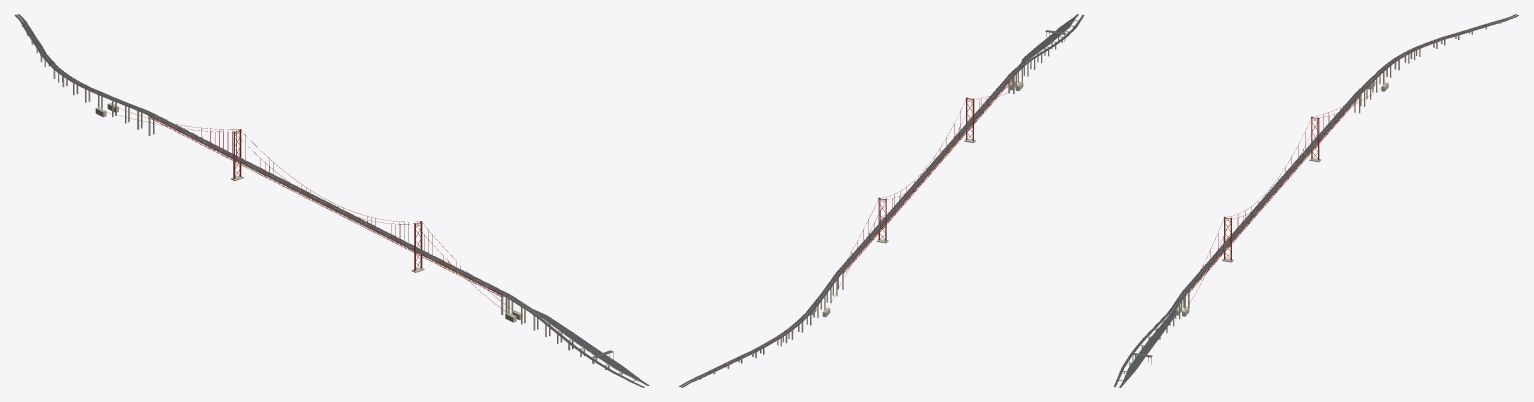
The model's file is ponte-25-de-abril-near.glb.
The picture shows the model from 3 angles, left to right: view 1: azimuth 30°, elevation 25°; view 2: azimuth 150°, elevation 25°; view 3: azimuth 330°, elevation 25°; orthographic projection. The views are drawn at different scales.
Parts seen in each view (by area): view 1: ponte-25-de-abril-1-steel, ponte-25-de-abril-0-asphalt, ponte-25-de-abril-2-steel, ponte-25-de-abril-0-concrete, ponte-25-de-abril-1-asphalt, ponte-25-de-abril-2-asphalt, ponte-25-de-abril-3-asphalt, ponte-25-de-abril-3-concrete; view 2: ponte-25-de-abril-1-steel, ponte-25-de-abril-2-steel, ponte-25-de-abril-0-asphalt, ponte-25-de-abril-3-asphalt, ponte-25-de-abril-2-asphalt, ponte-25-de-abril-1-asphalt, ponte-25-de-abril-0-concrete, ponte-25-de-abril-3-concrete; view 3: ponte-25-de-abril-0-asphalt, ponte-25-de-abril-1-steel, ponte-25-de-abril-2-steel, ponte-25-de-abril-1-asphalt, ponte-25-de-abril-2-asphalt, ponte-25-de-abril-3-asphalt, ponte-25-de-abril-3-concrete, ponte-25-de-abril-0-concrete.
Part boxes in pixels (left/top/right/bottom): ponte-25-de-abril-1-steel: left=149, top=116, right=500, bottom=296; ponte-25-de-abril-0-asphalt: left=470, top=276, right=649, bottom=387; ponte-25-de-abril-2-steel: left=119, top=101, right=300, bottom=190; ponte-25-de-abril-0-concrete: left=472, top=277, right=638, bottom=383; ponte-25-de-abril-1-asphalt: left=294, top=187, right=473, bottom=277; ponte-25-de-abril-2-asphalt: left=119, top=101, right=298, bottom=188; ponte-25-de-abril-3-asphalt: left=14, top=14, right=122, bottom=102; ponte-25-de-abril-3-concrete: left=21, top=22, right=118, bottom=117; ponte-25-de-abril-1-steel: left=844, top=77, right=1013, bottom=272; ponte-25-de-abril-2-steel: left=823, top=186, right=914, bottom=298; ponte-25-de-abril-0-asphalt: left=993, top=14, right=1083, bottom=93; ponte-25-de-abril-3-asphalt: left=679, top=290, right=828, bottom=387; ponte-25-de-abril-2-asphalt: left=824, top=190, right=913, bottom=290; ponte-25-de-abril-1-asphalt: left=909, top=93, right=997, bottom=190; ponte-25-de-abril-0-concrete: left=997, top=19, right=1078, bottom=93; ponte-25-de-abril-3-concrete: left=692, top=292, right=830, bottom=381; ponte-25-de-abril-0-asphalt: left=1114, top=272, right=1204, bottom=387; ponte-25-de-abril-1-steel: left=1189, top=96, right=1359, bottom=292; ponte-25-de-abril-2-steel: left=1283, top=80, right=1374, bottom=176; ponte-25-de-abril-1-asphalt: left=1200, top=174, right=1288, bottom=272; ponte-25-de-abril-2-asphalt: left=1284, top=80, right=1373, bottom=175; ponte-25-de-abril-3-asphalt: left=1369, top=14, right=1518, bottom=80; ponte-25-de-abril-3-concrete: left=1367, top=20, right=1507, bottom=92; ponte-25-de-abril-0-concrete: left=1118, top=274, right=1200, bottom=381.
Size of the model in its own units: 567 by 191 by 3868.
